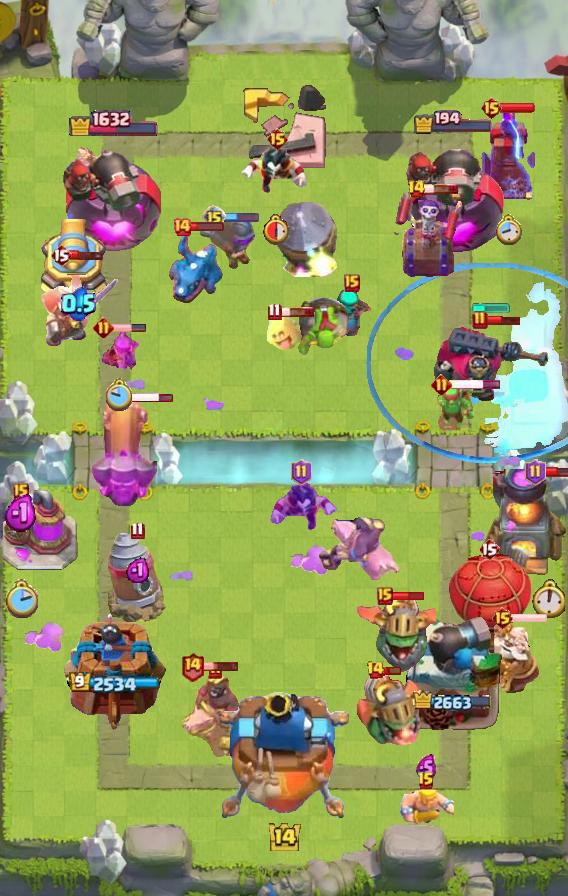archer: (398, 784, 454, 828)
bar-level: (295, 296, 349, 358)
bat-evolution: (266, 309, 310, 353)
bomb-tower: (197, 214, 257, 272)
cannon-cart: (447, 552, 531, 654)
electro-spirit: (4, 495, 39, 534), (60, 287, 96, 322), (127, 557, 150, 584), (415, 755, 437, 782)
elixir: (4, 579, 38, 618), (531, 579, 565, 618), (264, 213, 293, 245), (494, 213, 522, 245), (106, 378, 134, 410)
elixir-collector: (488, 615, 542, 695)
emote: (118, 391, 173, 404), (449, 378, 502, 389), (203, 660, 241, 672), (512, 612, 549, 624), (500, 102, 536, 114), (423, 183, 459, 195), (224, 211, 260, 223), (69, 249, 105, 261), (279, 306, 315, 318), (390, 590, 426, 602), (189, 220, 225, 231), (486, 315, 522, 326), (111, 323, 147, 333), (544, 466, 568, 478), (382, 665, 402, 676)
evolution-symbol: (99, 325, 141, 373)
freeze: (178, 671, 244, 757), (316, 516, 402, 580)
furnace: (89, 394, 157, 506)
giant-snowball: (434, 382, 476, 430)
graveyard: (167, 231, 225, 305)
hunter: (480, 469, 568, 579)
ice-spirit: (471, 301, 513, 313)
ice-spirit-evolution-symbol: (478, 105, 538, 201)
inferno-tower: (434, 325, 550, 403)
king-tower: (219, 692, 349, 826)
lumberjack: (240, 140, 314, 198), (264, 477, 338, 535)
magic-archer: (107, 531, 167, 625)
night-witch: (355, 592, 437, 672), (356, 672, 426, 746)
pad_0: (365, 263, 568, 465)
pekka: (0, 490, 78, 572)
queen-tower: (62, 613, 166, 731)
royal-recruit: (37, 219, 113, 299)
selected: (68, 108, 160, 137), (68, 672, 159, 696), (414, 110, 495, 135), (413, 690, 493, 714)
skeleton-king-bar: (394, 193, 462, 279)
text: (179, 651, 204, 682), (202, 205, 226, 229), (525, 459, 547, 485), (480, 96, 503, 120), (267, 127, 290, 151), (491, 606, 514, 630), (291, 459, 312, 485), (50, 243, 72, 267), (478, 537, 500, 561), (431, 373, 453, 394), (94, 317, 115, 338), (172, 217, 192, 237), (406, 179, 425, 199), (367, 660, 386, 680), (417, 771, 435, 791), (472, 310, 488, 330), (344, 274, 360, 292), (13, 483, 29, 501), (377, 587, 393, 605), (266, 302, 281, 321), (131, 521, 146, 539)
tower-bar: (401, 138, 505, 256), (63, 136, 165, 256), (402, 615, 504, 731)
wall-breaker-evolution: (36, 256, 120, 348)
witch: (332, 288, 372, 336)
x-bow: (274, 199, 337, 277)
